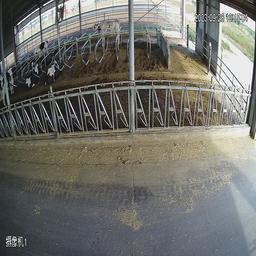cow: (99, 15, 121, 54), (20, 53, 42, 91), (46, 52, 67, 87), (4, 60, 19, 99), (34, 35, 55, 54)
